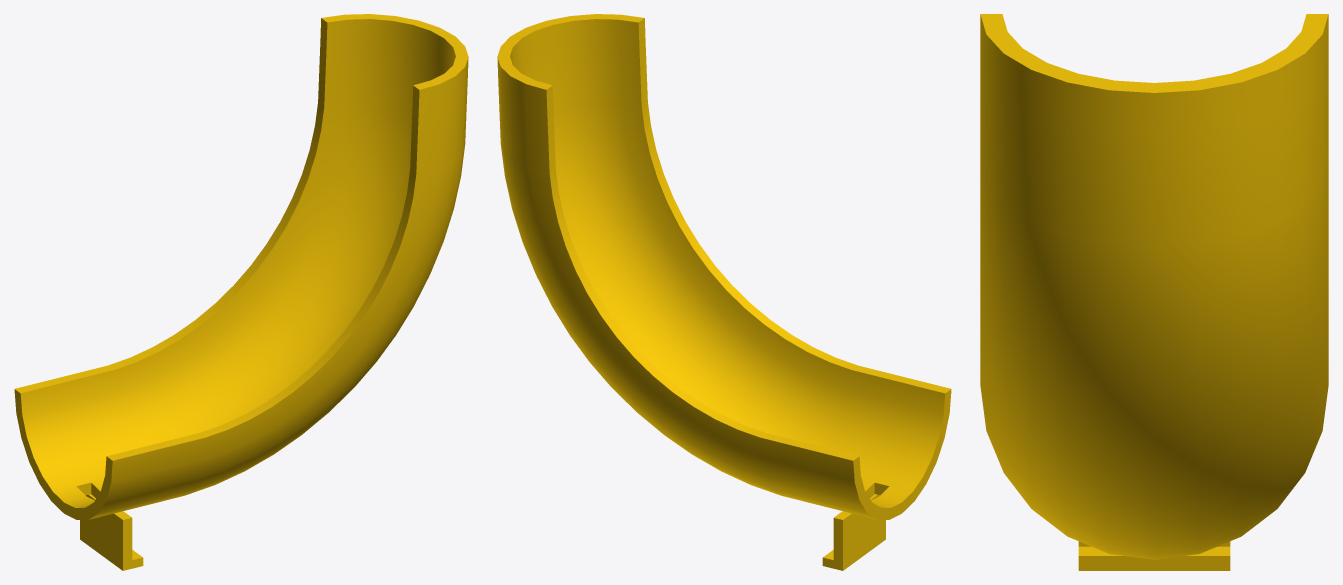
The picture shows the model from 3 angles, left to right: view 1: azimuth 30°, elevation 25°; view 2: azimuth 150°, elevation 25°; view 3: azimuth 270°, elevation 25°; orthographic projection. The views are drawn at different scales.
Visible parts, largest first — view 1: T-14; view 2: T-14; view 3: T-14.
Boxes of the visible parts, x1,y1,x2,y2 form: T-14: (14,14,468,570); T-14: (497,14,951,570); T-14: (980,14,1328,570).
Bounding box in the file's own units: 0.058 × 0.0616 × 0.0252.
